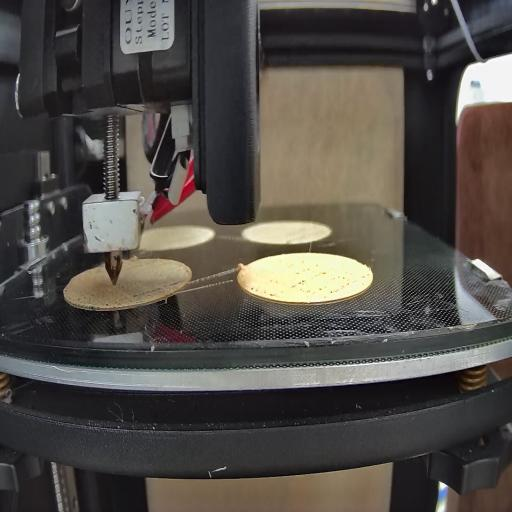under_extrusion: (248, 273, 367, 306), (64, 280, 184, 310)
